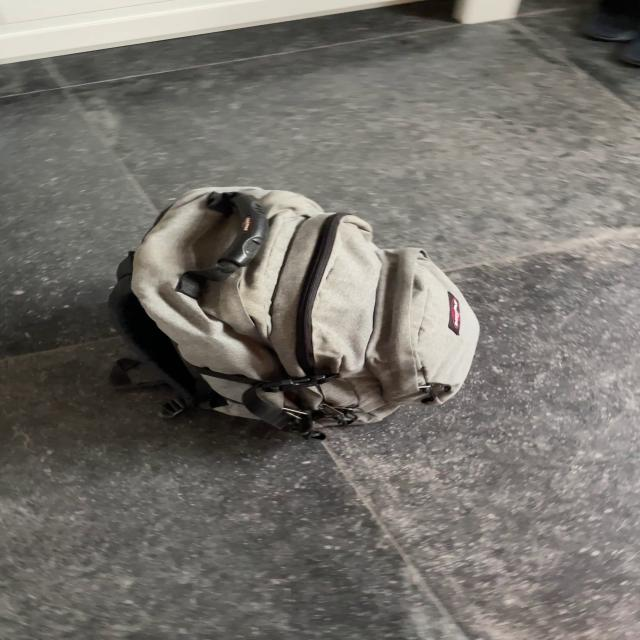backpack: (91, 180, 494, 438)
